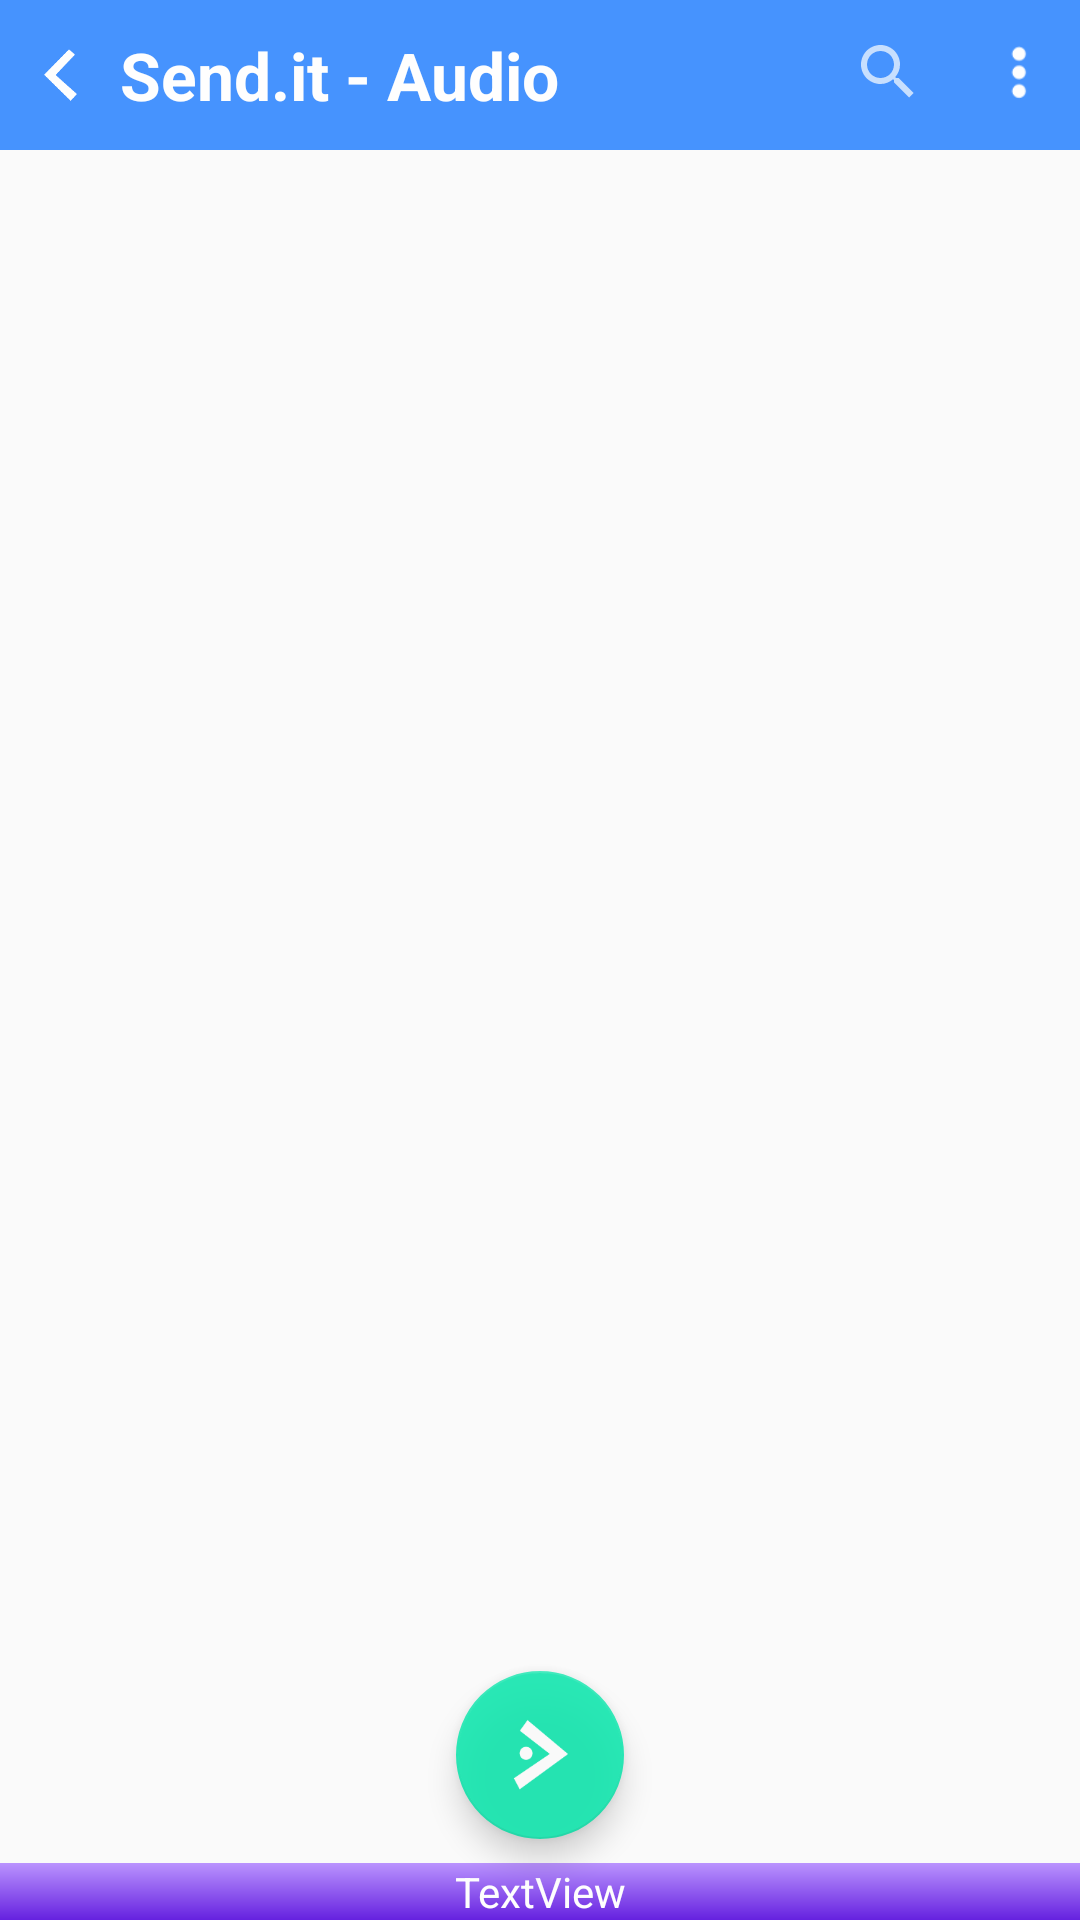

Named icons in this screenshot (1080×1920) and their bounding boxes, BBox(x1, y1, x2, y2):
back: BBox(44, 49, 77, 101)
menu: BBox(1011, 46, 1026, 98)
send: BBox(456, 1671, 624, 1839)
